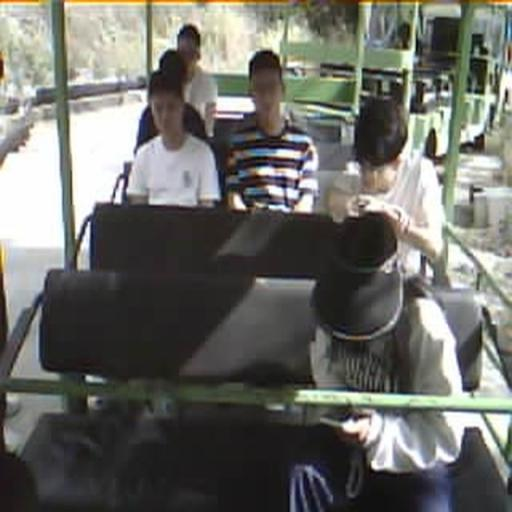persona: (299, 212, 466, 509), (326, 92, 448, 282), (224, 49, 320, 214), (126, 50, 222, 208), (136, 22, 218, 152)
